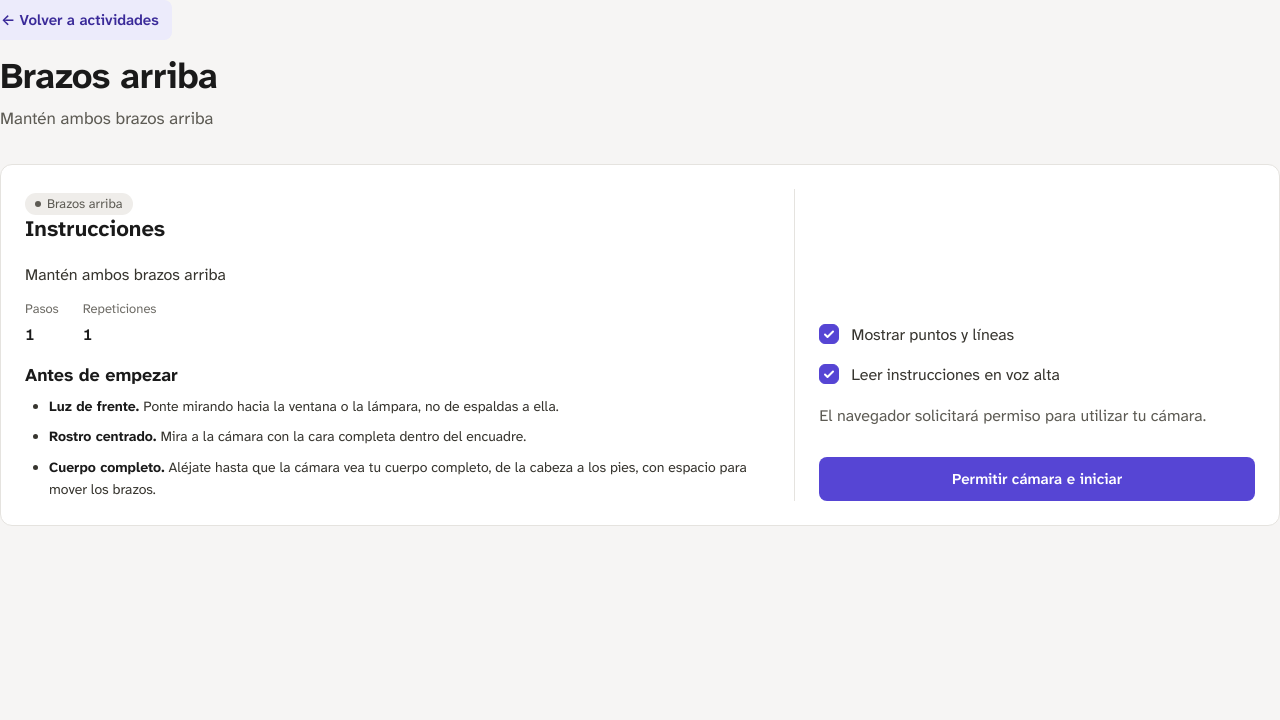
it: cámara y ciclo de actividad › no solicita cámara si falta consentimiento
Step 1. Click the button "Permitir cámara e iniciar" → x=1037, y=479, box [819, 457, 1255, 501]
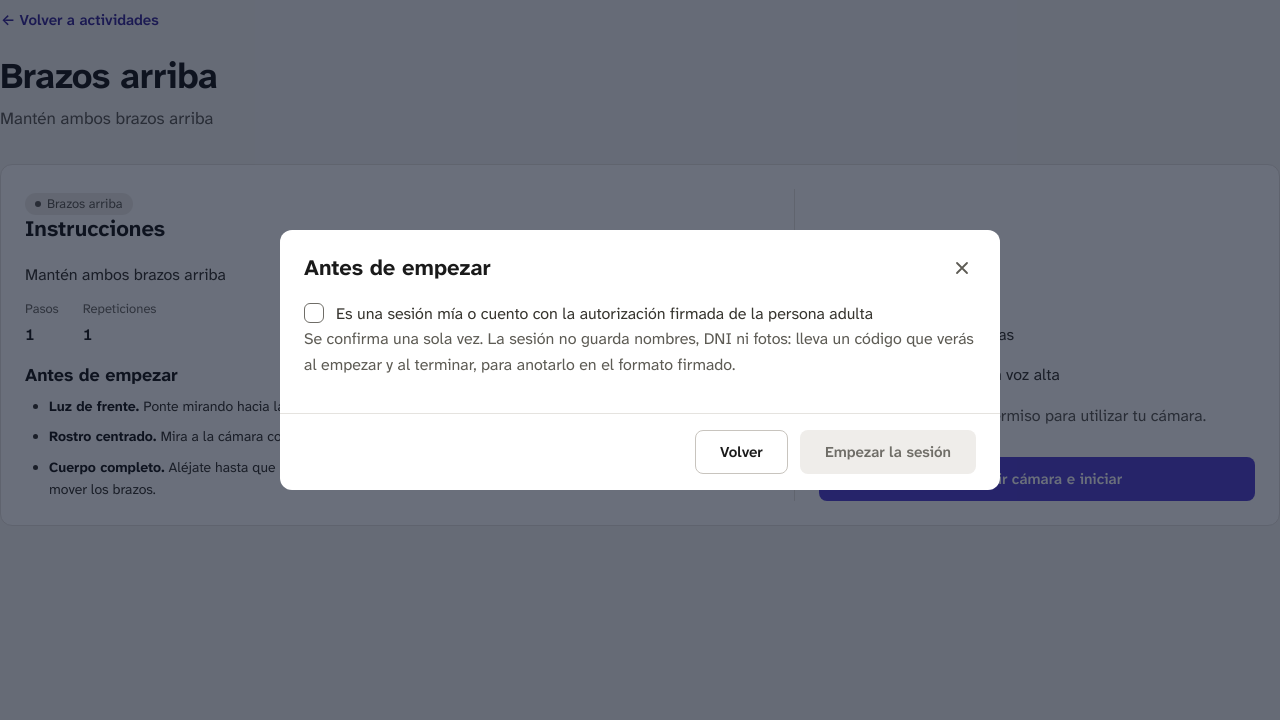
Step 2. Click the checkbox labelled "Es una sesión mía" → x=314, y=313, box [304, 303, 324, 323]
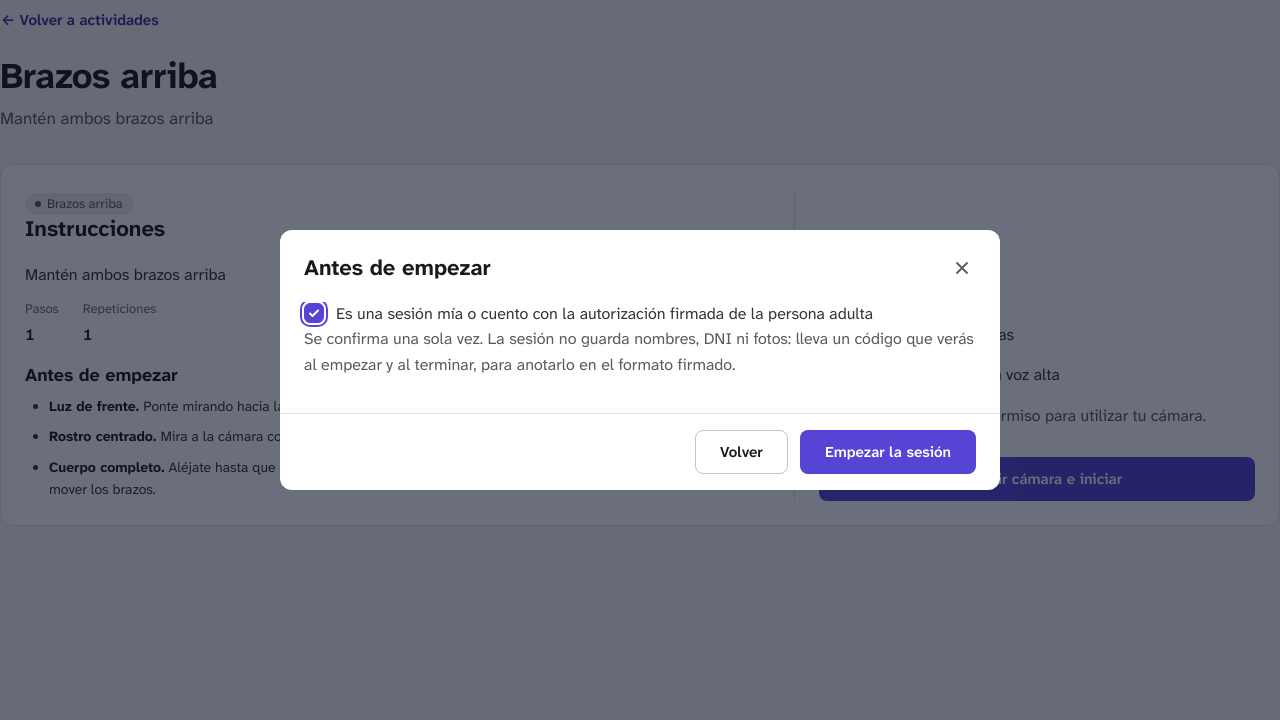
Step 3. Click the button "Empezar la sesión" → x=888, y=452, box [800, 430, 976, 474]
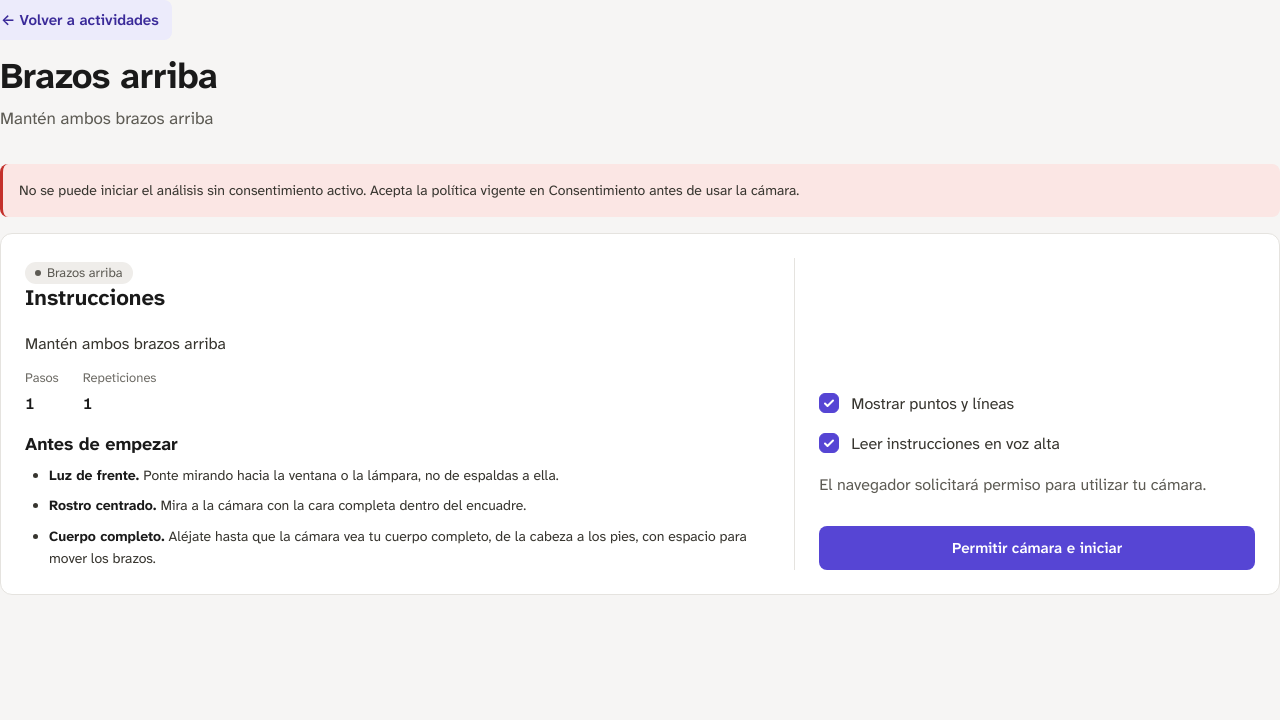
Now the message shows "consentimiento activo", box [19, 181, 799, 199]
